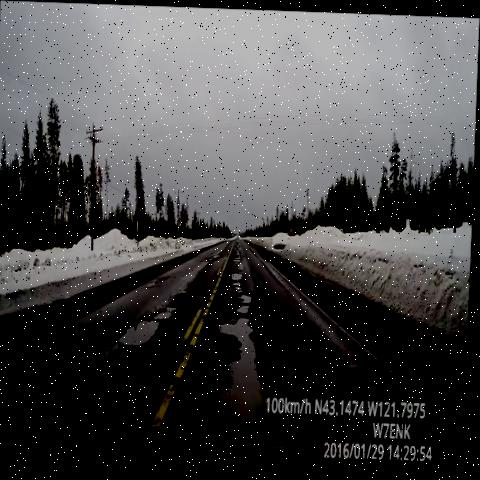pothole: (208, 306, 281, 427), (119, 293, 186, 360), (230, 264, 255, 301), (148, 264, 172, 294), (229, 237, 253, 265), (205, 241, 226, 269), (235, 298, 263, 318)
